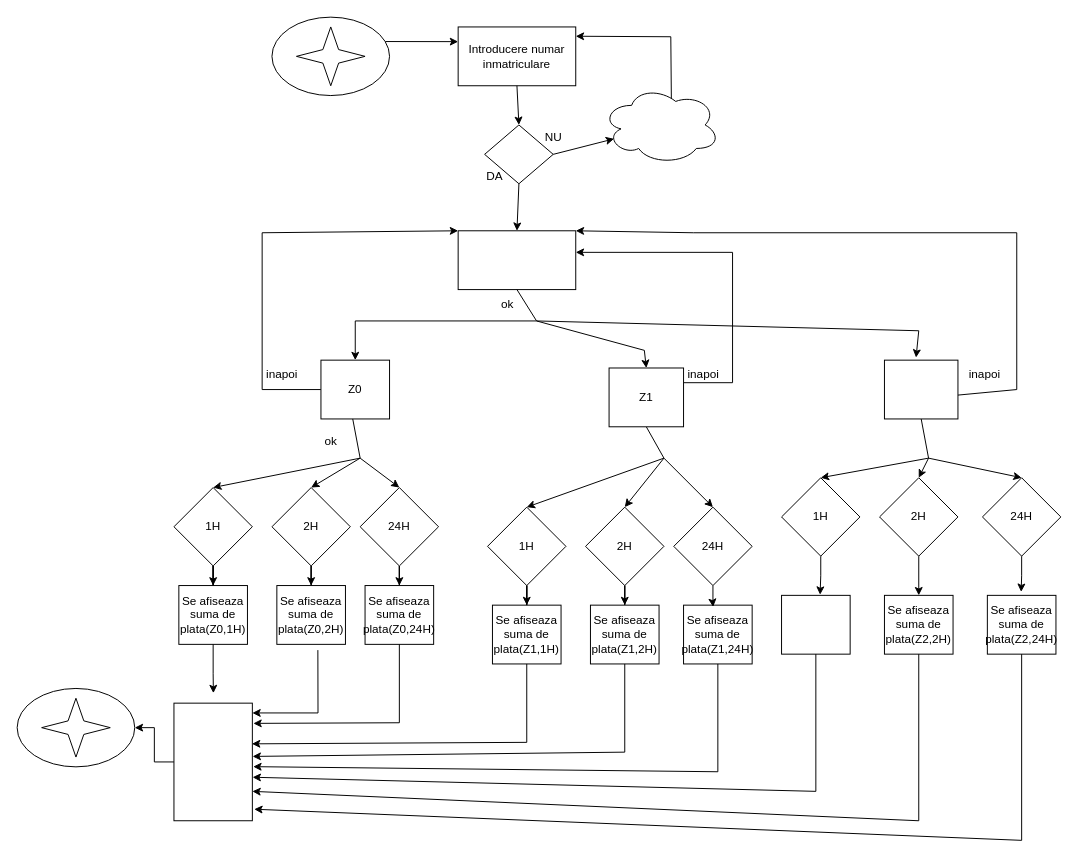
This 1078x865 diagram has some shape labels left out. Each missing label, with the box of its shape:
Nr. valid: (484, 124, 553, 184)
numar incorect: (601, 85, 720, 164)
Plata acceptata: (173, 702, 252, 821)
Se afiseaza suma de plata(Z2,1H): (781, 594, 850, 654)
Selectare zona: (457, 230, 576, 290)
Z2: (883, 359, 958, 419)
